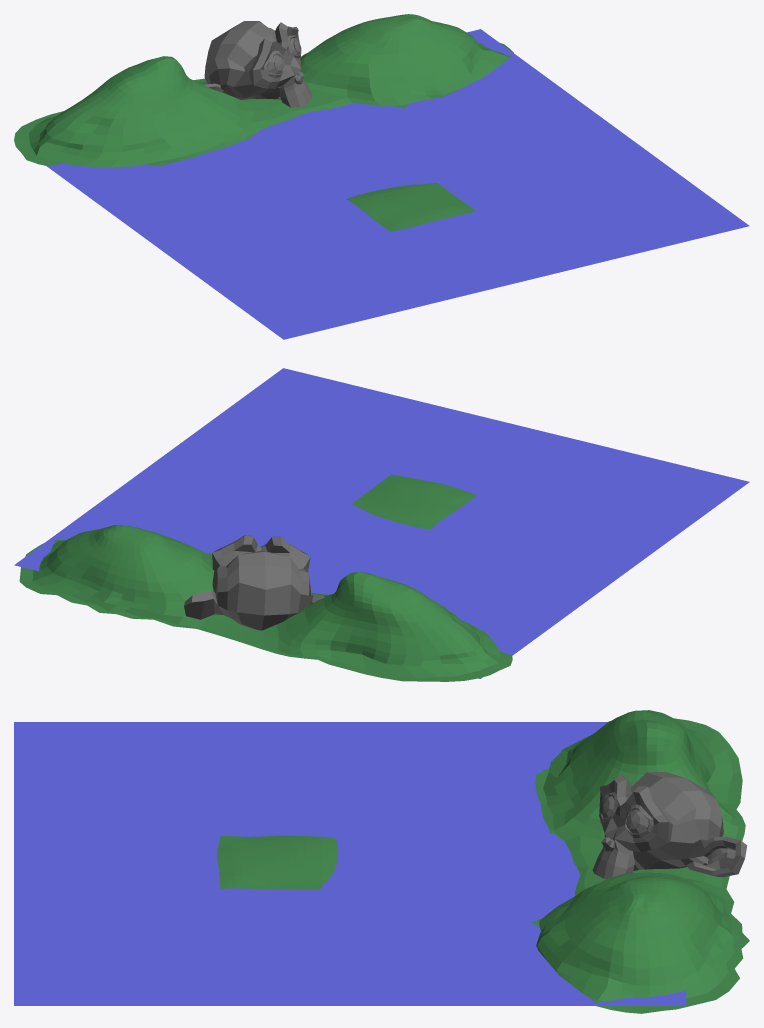
The model's file is dreamscene.glb.
The picture shows the model from 3 angles, top to bottom: view 1: azimuth 30°, elevation 25°; view 2: azimuth 150°, elevation 25°; view 3: azimuth 270°, elevation 25°; orthographic projection. The views are drawn at different scales.
Parts seen in each view (by area): view 1: Plane, Cube.001, Suzanne, Plane.001; view 2: Plane, Cube.001, Suzanne, Plane.001; view 3: Plane, Cube.001, Suzanne, Plane.001.
Part boxes in pixels (<box>): Plane: <box>46,29,749,339</box>; Cube.001: <box>14,14,513,167</box>; Suzanne: <box>204,21,312,107</box>; Plane.001: <box>346,183,475,231</box>; Plane: <box>14,368,749,678</box>; Cube.001: <box>19,525,512,681</box>; Suzanne: <box>184,535,324,630</box>; Plane.001: <box>351,474,476,529</box>; Plane: <box>14,722,686,1005</box>; Cube.001: <box>531,710,749,1013</box>; Suzanne: <box>592,772,747,879</box>; Plane.001: <box>217,835,338,889</box>.
Size of the model in its own units: 237 by 41.29 by 251.
